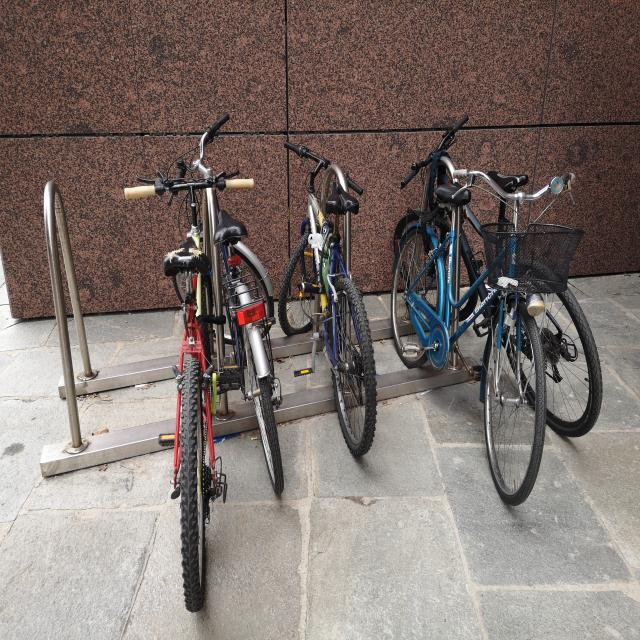Bicycle: (391, 116, 626, 466), (404, 130, 550, 530), (122, 143, 230, 598), (286, 81, 390, 483), (191, 147, 301, 506)
